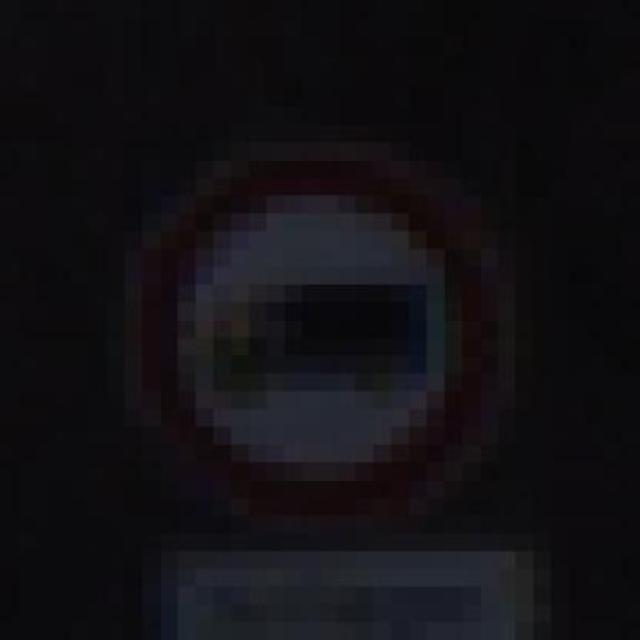Truck traffic is prohibited: (89, 142, 533, 498)
